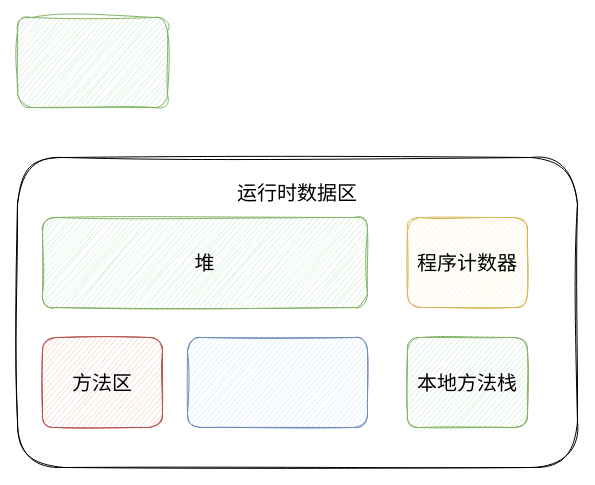
Some shapes in this 595 by 485 pixel diagram are drawn without their labels. Here are the shapes that lost their labels. From the top down, the centre of each, then its label:
the point at 92,62: 类加载器
the point at 277,382: 虚拟机栈
